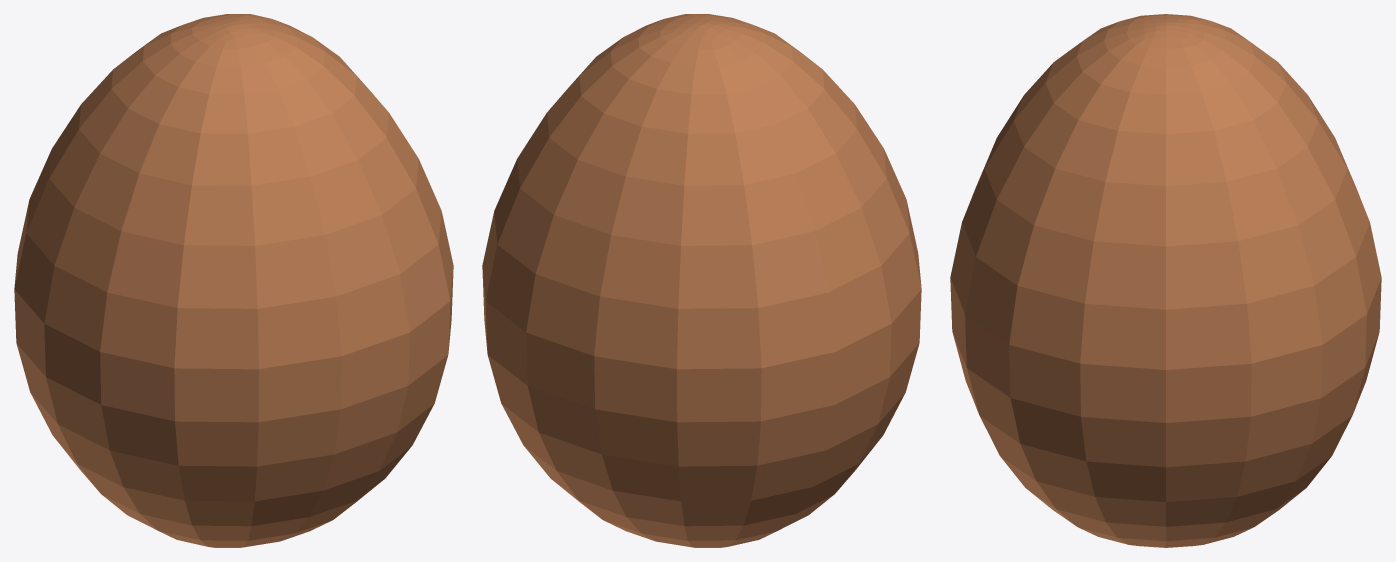
Rendered from egg.fbx.
3 renders of one model, left to right at view 1: azimuth 30°, elevation 25°; view 2: azimuth 150°, elevation 25°; view 3: azimuth 270°, elevation 25°, orthographic.
Parts seen in each view (by area): view 1: egg; view 2: egg; view 3: egg.
Part boxes in pixels (left/top/right/bottom): egg: left=14, top=14, right=453, bottom=547; egg: left=482, top=14, right=921, bottom=547; egg: left=950, top=14, right=1381, bottom=547.
Size of the model in its own units: 154 by 197 by 152.
